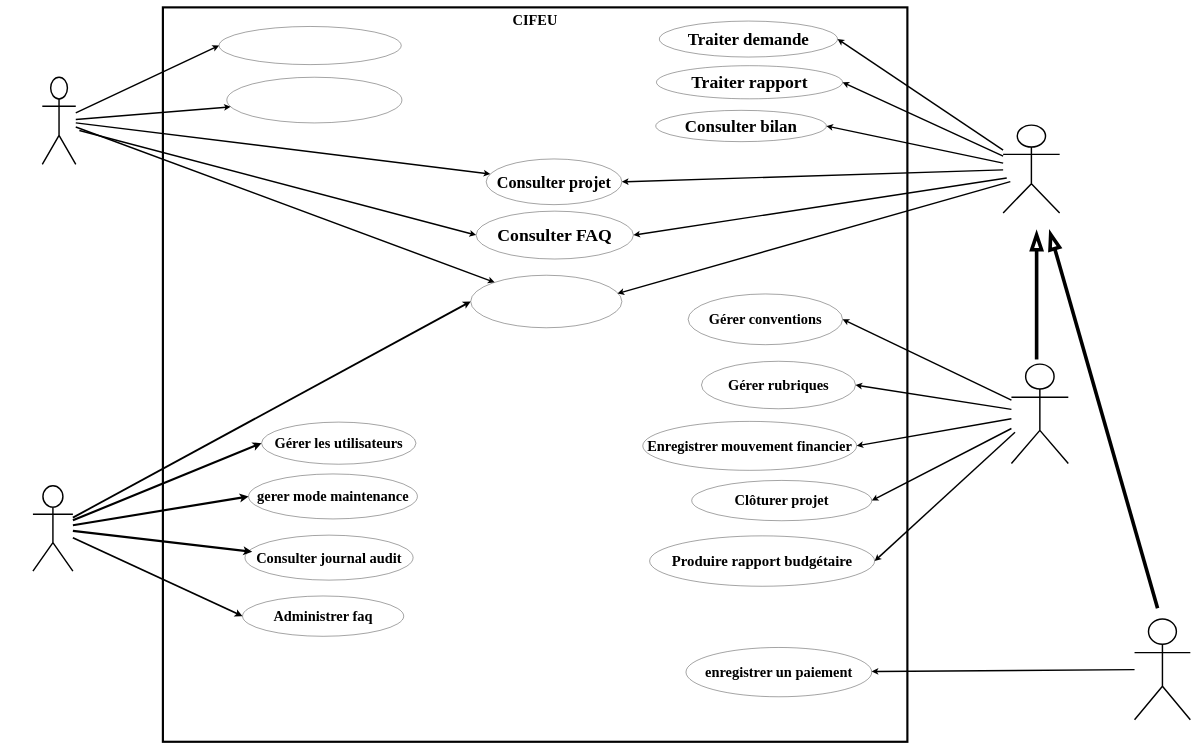
This 1197x749 diagram has some shape labels left out. The shapes that lost their labels are listed below. From the top down, each one's centre as x and y in pixels, then its label:
At (310,45): "Soumettre demande".
At (58,120): "Port eur de projet".
At (314,100): "Déposer rapport exécution".
At (1031,168): "Agent Financier".
At (546,301): "Chat d'assistance".
At (1040,413): "DAF".
At (52,528): "Administrateur".
At (1162,669): "AC".
